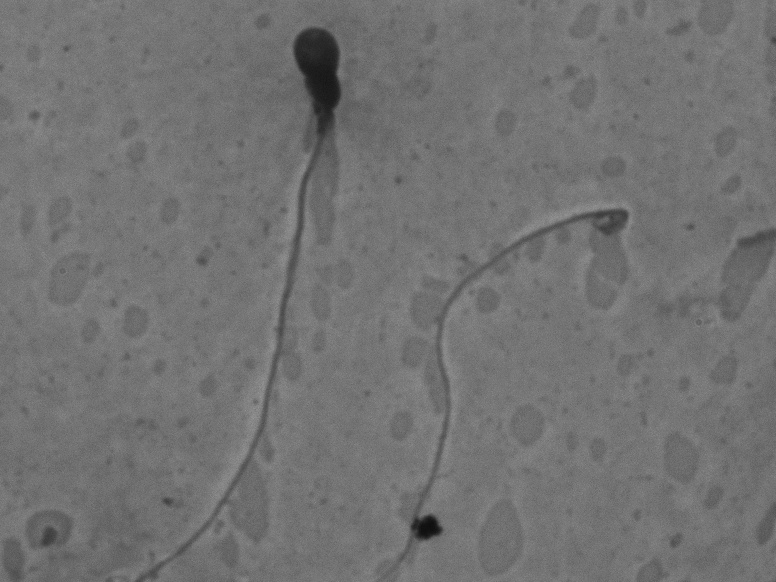Abnormal: (373, 186, 643, 556), (178, 19, 352, 564)
